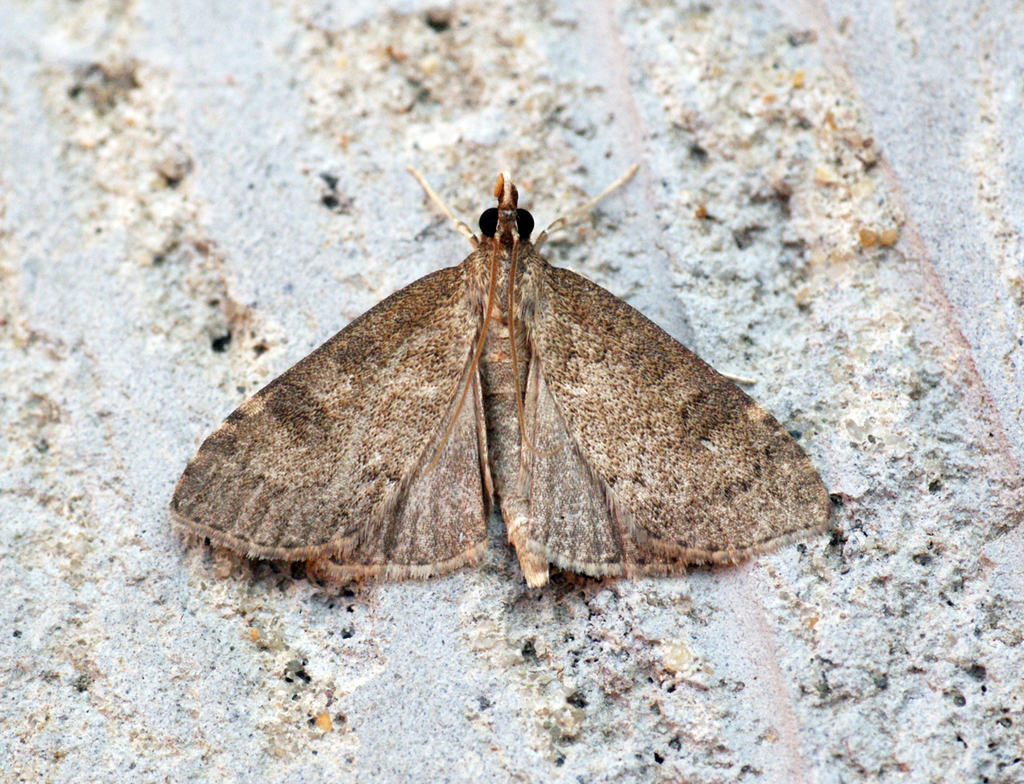Butterfly: (168, 164, 840, 621)
